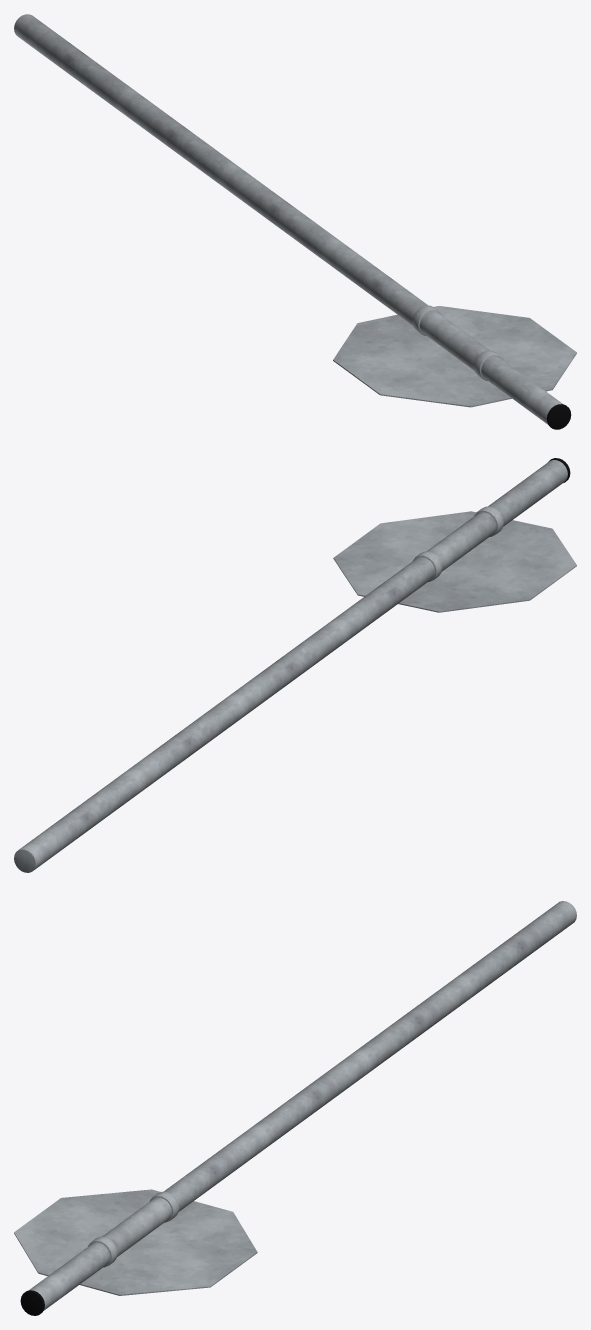
File: PAV-SIN-001_anim.glb
The picture shows the model from 3 angles, top to bottom: view 1: azimuth 30°, elevation 25°; view 2: azimuth 150°, elevation 25°; view 3: azimuth 330°, elevation 25°; orthographic projection.
Parts seen in each view (by area): view 1: PAV-SIN-001_anim0; view 2: PAV-SIN-001_anim0; view 3: PAV-SIN-001_anim0.
Part boxes in pixels (x1=…): PAV-SIN-001_anim0: x1=14, y1=14, x2=576, y2=429; PAV-SIN-001_anim0: x1=14, y1=458, x2=576, y2=872; PAV-SIN-001_anim0: x1=14, y1=901, x2=576, y2=1315.
Bounding box in the file's own units: 0.5542 × 0.0873 × 2.61.
3 materials, 3 textured.
